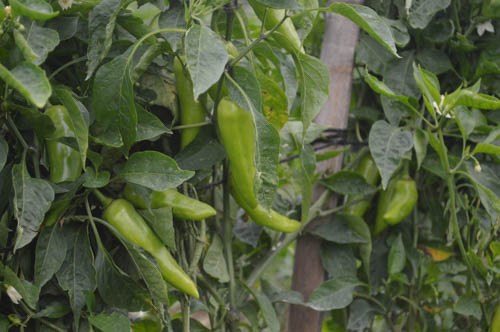ChiliPepper: (103, 204, 196, 295), (227, 173, 302, 238), (38, 109, 80, 214), (220, 100, 258, 206), (123, 179, 216, 220), (171, 57, 206, 150), (259, 9, 305, 58), (346, 154, 373, 224), (390, 180, 418, 231), (375, 174, 397, 235)
